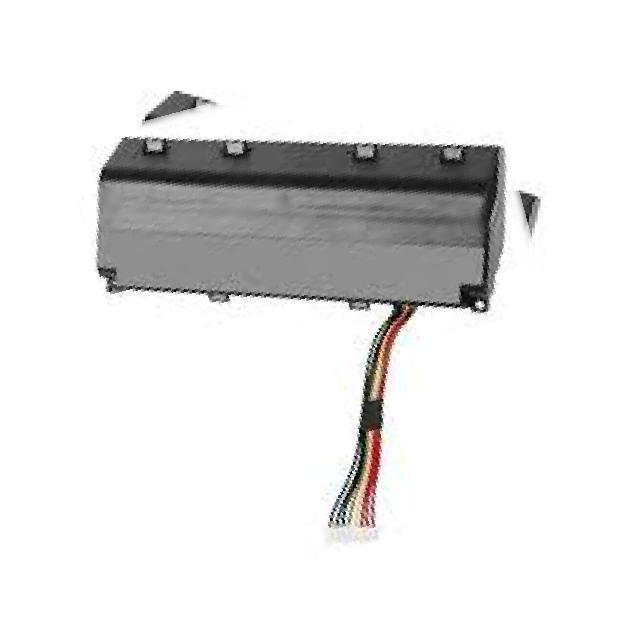Battery: (38, 60, 592, 582)
